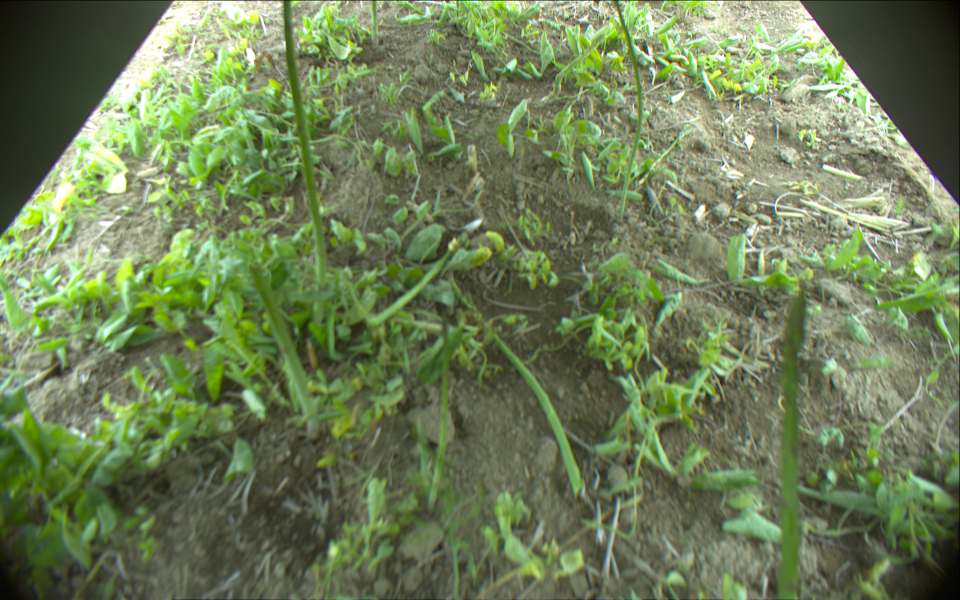aspa: (449, 274, 583, 496), (247, 255, 322, 442), (282, 1, 328, 286), (772, 291, 807, 600), (365, 234, 464, 329), (611, 1, 642, 222), (425, 311, 449, 511), (369, 1, 379, 47)
